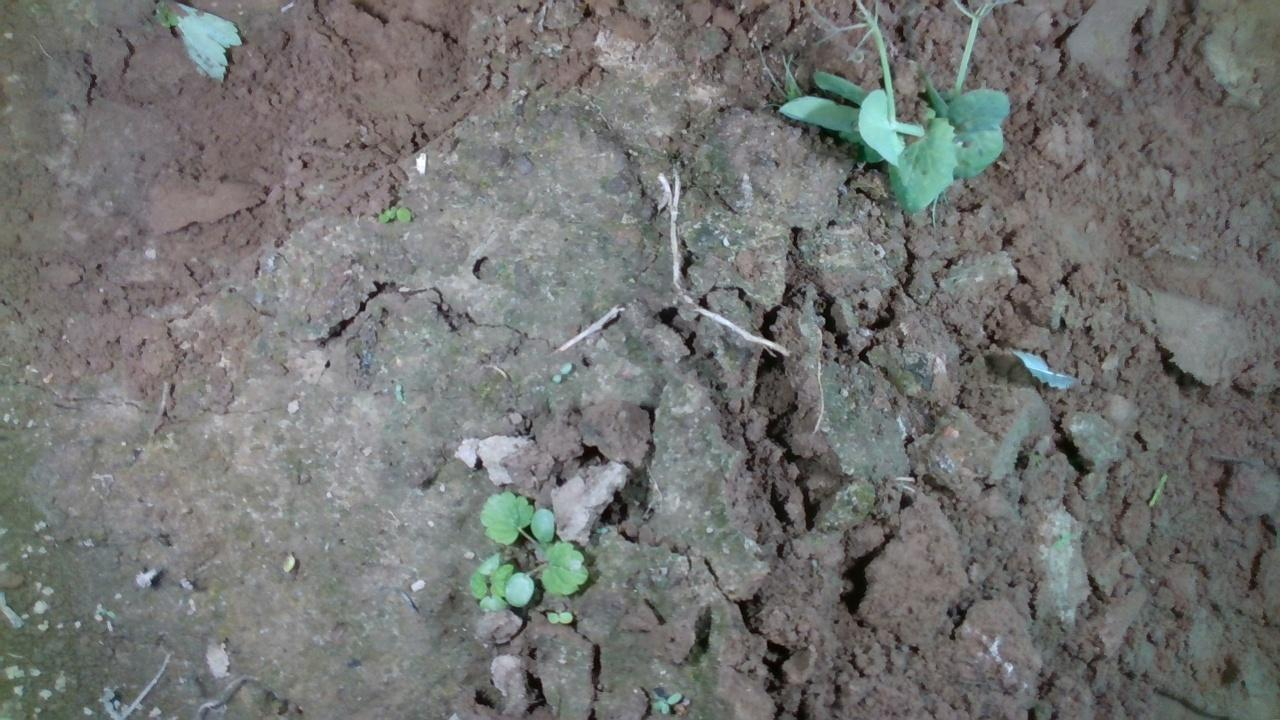weed: (370, 193, 426, 230), (540, 364, 572, 382), (615, 143, 649, 158)
